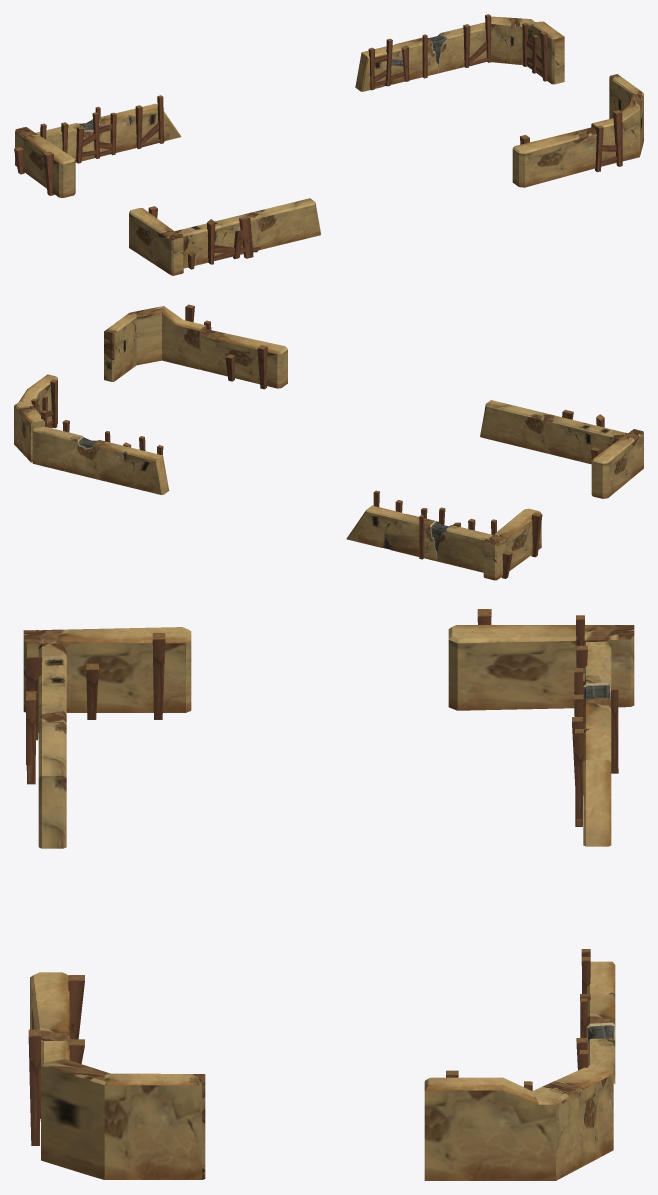
File: bounding_wall02.FBX
The picture shows the model from 3 angles, top to bottom: view 1: azimuth 30°, elevation 25°; view 2: azimuth 150°, elevation 25°; view 3: azimuth 270°, elevation 25°; orthographic projection. The views are drawn at different scales.
Parts seen in each view (by area): view 1: Object9135; view 2: Object9135; view 3: Object9135.
Part boxes in pixels (x1,y1,x2,y2): Object9135: (14, 14, 643, 275); Object9135: (14, 304, 643, 580); Object9135: (23, 609, 634, 1180).
Bounding box in the file's own units: 4328 × 2267 × 452.
1 material, 1 textured.
